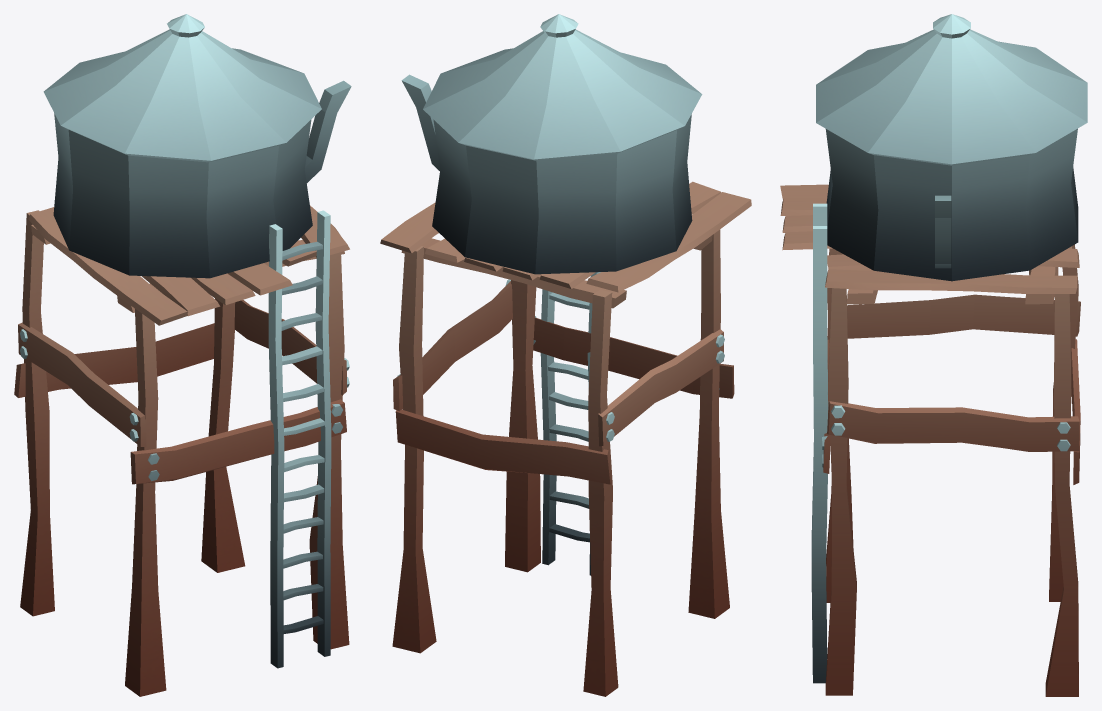
The model's file is M_water_tower.fbx.
3 renders of one model, left to right at view 1: azimuth 30°, elevation 25°; view 2: azimuth 150°, elevation 25°; view 3: azimuth 270°, elevation 25°, orthographic. The views are drawn at different scales.
Parts seen in each view (by area): view 1: water_tower; view 2: water_tower; view 3: water_tower.
Part boxes in pixels (left/top/right/bottom): water_tower: left=14, top=14, right=351, bottom=696; water_tower: left=380, top=14, right=751, bottom=696; water_tower: left=780, top=14, right=1087, bottom=696.
Size of the model in its own units: 422 by 871 by 385.
